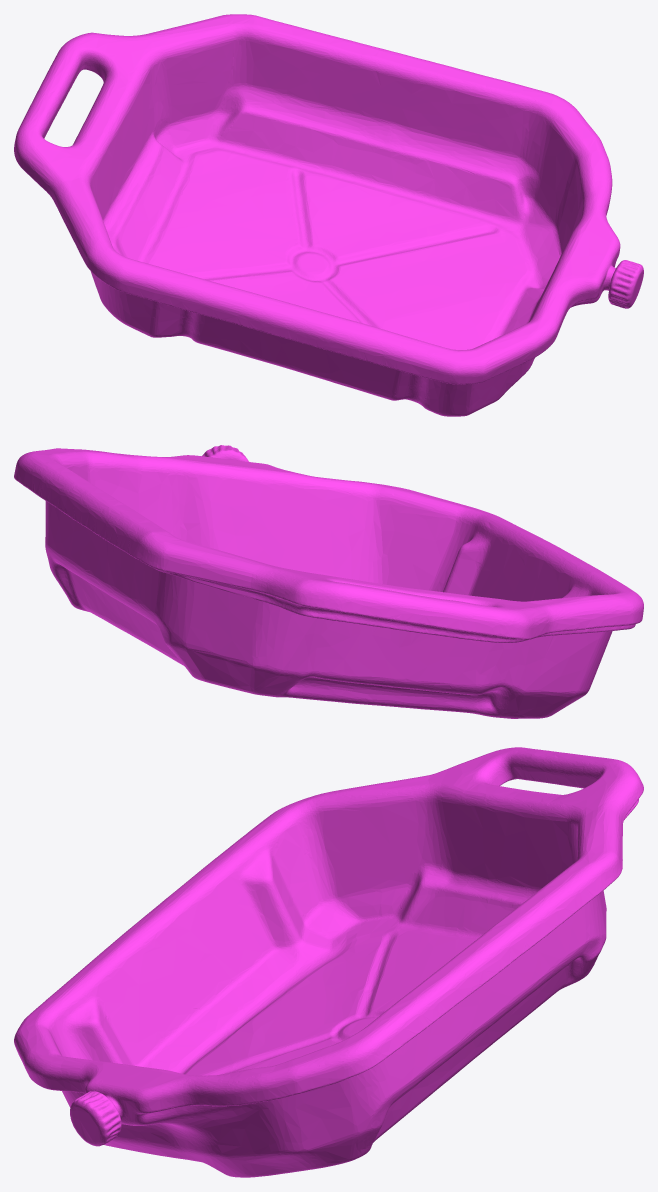
Rendered from gear_oil_pan.glb.
The picture shows the model from 3 angles, top to bottom: view 1: azimuth 30°, elevation 25°; view 2: azimuth 150°, elevation 25°; view 3: azimuth 270°, elevation 25°; orthographic projection. The views are drawn at different scales.
Parts seen in each view (by area): view 1: oil_pan; view 2: oil_pan; view 3: oil_pan.
Boxes of the visible parts, left/top/right/bottom form: oil_pan: left=14, top=14, right=643, bottom=416; oil_pan: left=14, top=445, right=643, bottom=718; oil_pan: left=14, top=747, right=643, bottom=1177.
Bounding box in the file's own units: 0.064 × 0.0301 × 0.0606.
